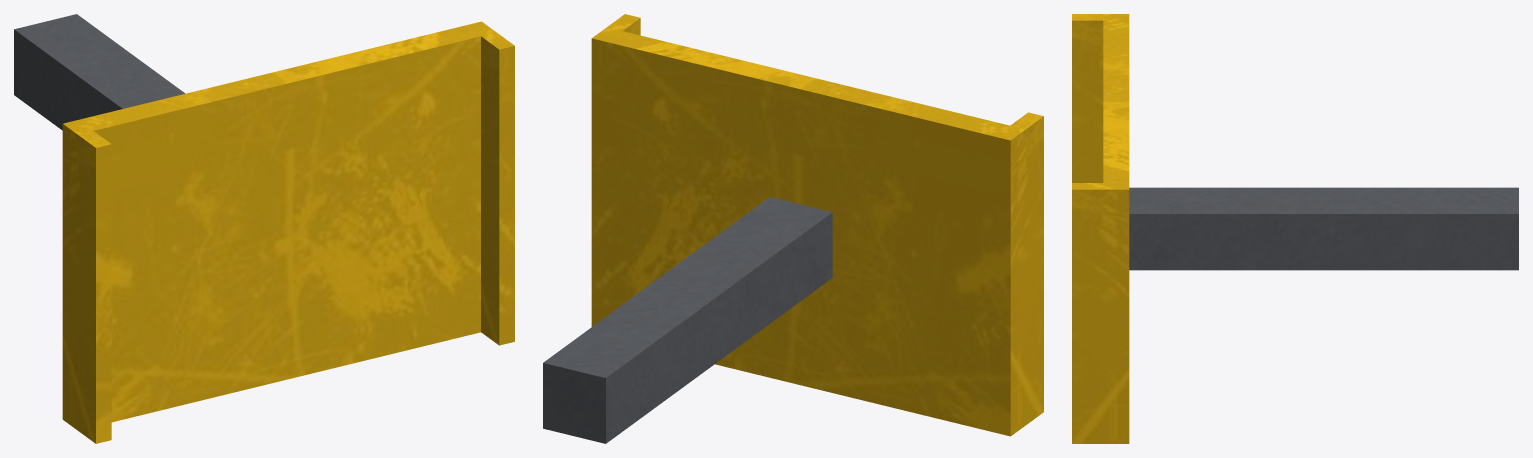
File: tool_tray.glb
The picture shows the model from 3 angles, left to right: view 1: azimuth 30°, elevation 25°; view 2: azimuth 150°, elevation 25°; view 3: azimuth 270°, elevation 25°; orthographic projection. The views are drawn at different scales.
Parts seen in each view (by area): view 1: tool_tray; view 2: tool_tray; view 3: tool_tray.
Boxes of the visible parts, x1,y1,x2,y2 form: tool_tray: (14,14,514,443); tool_tray: (543,14,1043,443); tool_tray: (1072,14,1518,443).
Bounding box in the file's own units: 0.4 × 0.27 × 0.43.
2 materials, 2 textured.
